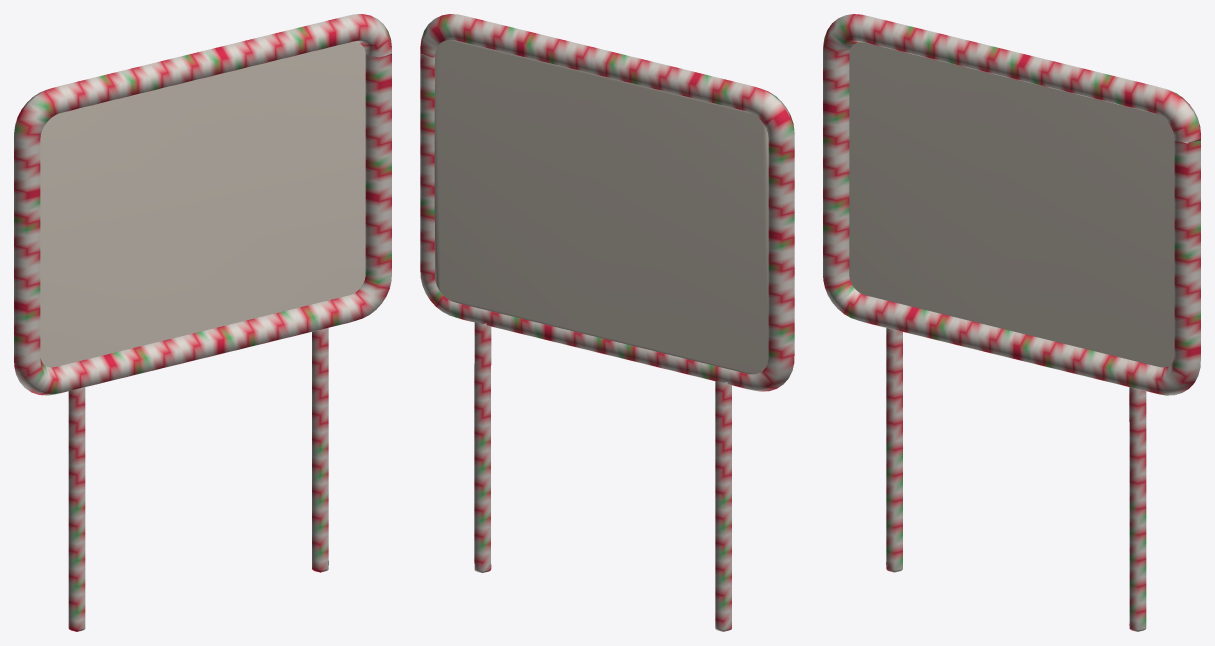
File: sign.lite.glb
The picture shows the model from 3 angles, left to right: view 1: azimuth 30°, elevation 25°; view 2: azimuth 150°, elevation 25°; view 3: azimuth 330°, elevation 25°; orthographic projection.
Visible parts, largest first — view 1: SignFrame; view 2: SignFrame; view 3: SignFrame.
Part boxes in pixels (x1,y1,x2,y2): SignFrame: (14,14,391,631); SignFrame: (420,14,794,631); SignFrame: (823,14,1200,631).
Bounding box in the file's own units: 4.04 × 5.64 × 0.2793.
